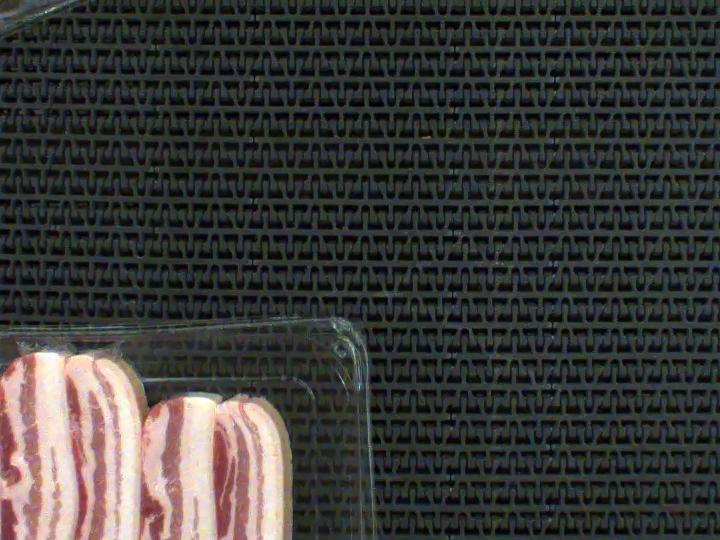unsealed: (0, 325, 229, 540)
